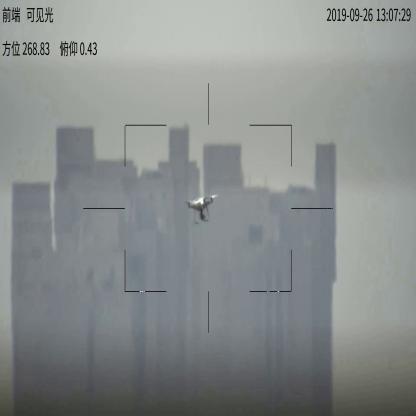uav: (180, 194, 218, 226)
